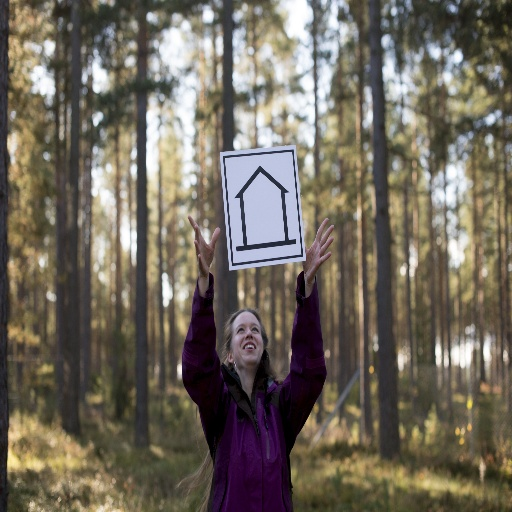hand: (304, 222, 339, 303), (186, 212, 220, 281)
